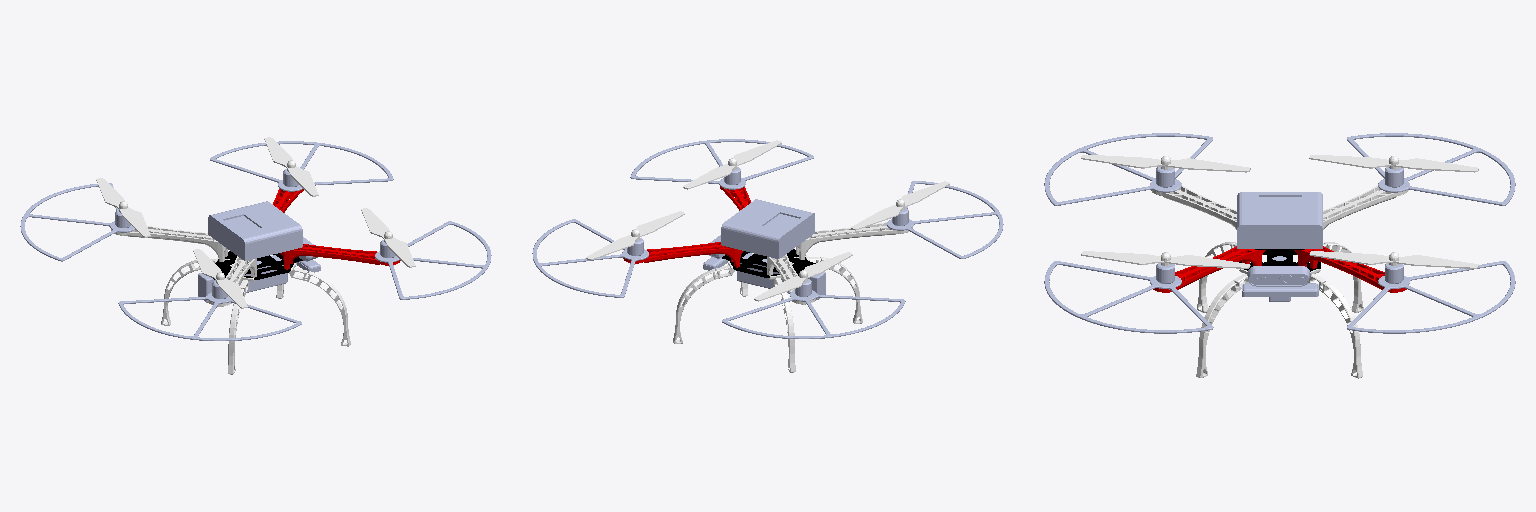
The robot description file, URDF, robot "f450":
<?xml version="1.0" encoding="utf-8"?>
<!-- This URDF was automatically created by SolidWorks to URDF Exporter! Originally created by [author] ([email redacted]) 
     Commit Version: 1.6.0-1-g15f4949  Build Version: 1.6.7594.29634
     For more information, please see http://wiki.ros.org/sw_urdf_exporter -->
<robot
  name="f450">

  <link name="base_link">
    <visual>
      <geometry>
        <mesh
          filename="package://f450/meshes/base_link.STL" />
      </geometry>
      <material
        name="">
        <color
          rgba="0 0 0 1" />
      </material>
    </visual>
  </link>

  <link name="leg_link">   
    <visual>
      <geometry>
        <mesh
          filename="package://f450/meshes/leg_link.STL" />
      </geometry>
      <material
        name="">
        <color
          rgba="1 1 1 1" />
      </material>
    </visual>
  </link>

  <joint name="leg_link_joint" type="fixed">
    <origin
      xyz="0 0 0.132"
      rpy="0 0 0" />
    <parent
      link="base_link" />
    <child
      link="leg_link" />
    <axis
      xyz="0 0 0" />
  </joint>

  <link
    name="battery_link">
    
    <visual>
      <origin
        xyz="0 0 0"
        rpy="0 0 0" />
      <geometry>
        <mesh
          filename="package://f450/meshes/battery_link.STL" />
      </geometry>
      <material
        name="">
        <color
          rgba="0.79216 0.81961 0.93333 1" />
      </material>
    </visual>
  
  </link>
  <joint
    name="battery_link_joint"
    type="fixed">
    <origin
      xyz="-0.025435 -0.00022216 0.09"
      rpy="0 0 0" />
    <parent
      link="base_link" />
    <child
      link="battery_link" />
    <axis
      xyz="0 0 0" />
  </joint>
  <link
    name="jetson_link">
    
    <visual>
      <origin
        xyz="0 0 0"
        rpy="0 0 0" />
      <geometry>
        <mesh
          filename="package://f450/meshes/jetson_link.STL" />
      </geometry>
      <material
        name="">
        <color
          rgba="0.79216 0.81961 0.93333 1" />
      </material>
    </visual>
  
  </link>
  <joint
    name="jetson_link_joint"
    type="fixed">
    <origin
      xyz="0.00570216508420152 0.000181695463436604 0.210999999999999"
      rpy="0 0 0" />
    <parent
      link="base_link" />
    <child
      link="jetson_link" />
    <axis
      xyz="0 0 0" />
  </joint>
  <link
    name="d435_link">

    <visual>
      <origin
        xyz="0 0 0"
        rpy="0 0 0" />
      <geometry>
        <mesh
          filename="package://f450/meshes/d435_link.STL" />
      </geometry>
      <material
        name="">
        <color
          rgba="0.79216 0.81961 0.93333 1" />
      </material>
    </visual>
    
  </link>
  <joint
    name="d435_link_joint"
    type="fixed">
    <origin
      xyz="0 0 0"
      rpy="0 0 0" />
    <parent
      link="base_link" />
    <child
      link="d435_link" />
    <axis
      xyz="0 0 0" />
  </joint>
  <link
    name="t265_link">
   
    <visual>
      <origin
        xyz="0 0 0"
        rpy="0 0 0" />
      <geometry>
        <mesh
          filename="package://f450/meshes/t265_link.STL" />
      </geometry>
      <material
        name="">
        <color
          rgba="0.79216 0.81961 0.93333 1" />
      </material>
    </visual>
   
  </link>
  <joint
    name="t265_link_joint"
    type="fixed">
    <origin
      xyz="0.0824052505915125 -0.00862818550105304 0.118529424882819"
      rpy="0 0 0" />
    <parent
      link="base_link" />
    <child
      link="t265_link" />
    <axis
      xyz="0 0 0" />
  </joint>
  <link
    name="front_arm_link">
   
    <visual>
      <origin
        xyz="0 0 0"
        rpy="0 0 0" />
      <geometry>
        <mesh
          filename="package://f450/meshes/front_arm_link.STL" />
      </geometry>
      <material
        name="">
        <color
          rgba="1 0 0 1" />
      </material>
    </visual>
  
  </link>
  <joint
    name="front_arm_link_joint"
    type="fixed">
    <origin
      xyz="0.0980914901926783 0.0980914949967722 0.170999999999999"
      rpy="0 0 0" />
    <parent
      link="base_link" />
    <child
      link="front_arm_link" />
    <axis
      xyz="0 0 0" />
  </joint>
  <link
    name="back_arm_link">
   
    <visual>
      <origin
        xyz="0 0 0"
        rpy="0 0 0" />
      <geometry>
        <mesh
          filename="package://f450/meshes/back_arm_link.STL" />
      </geometry>
      <material
        name="">
        <color
          rgba="1 1 1 1" />
      </material>
    </visual>
  
  </link>
  <joint
    name="back_arm_link_joint"
    type="fixed">
    <origin
      xyz="-0.098091 -0.098091 0.171"
      rpy="0 0 0" />
    <parent
      link="base_link" />
    <child
      link="back_arm_link" />
    <axis
      xyz="0 0 0" />
  </joint>
  <link
    name="prop_guard_link">
    
    <visual>
      <origin
        xyz="0 0 0"
        rpy="0 0 0" />
      <geometry>
        <mesh
          filename="package://f450/meshes/prop_guard_link.STL" />
      </geometry>
      <material
        name="">
        <color
          rgba="0.79216 0.81961 0.93333 1" />
      </material>
    </visual>
    
  </link>
  <joint
    name="prop_guard_link_joint"
    type="fixed">
    <origin
      xyz="0 3.6966E-05 0.171"
      rpy="0 0 0" />
    <parent
      link="base_link" />
    <child
      link="prop_guard_link" />
    <axis
      xyz="0 0 0" />
  </joint>
  <link
    name="motor_link">
   
    <visual>
      <origin
        xyz="0 0 0"
        rpy="0 0 0" />
      <geometry>
        <mesh
          filename="package://f450/meshes/motor_link.STL" />
      </geometry>
      <material
        name="">
        <color
          rgba="0.79216 0.81961 0.93333 1" />
      </material>
    </visual>
  
  </link>
  <joint
    name="motor_link_joint"
    type="fixed">
    <origin
      xyz="-0.00077732 0.0001817 0.173"
      rpy="0 0 0" />
    <parent
      link="base_link" />
    <child
      link="motor_link" />
    <axis
      xyz="0 0 1" />
  </joint>
  <link
    name="rotor1">

    <visual>
      <origin
        xyz="0 0 0"
        rpy="0 0 0" />
      <geometry>
        <mesh
          filename="package://f450/meshes/rotor1.STL" />
      </geometry>
      <material
        name="">
        <color
          rgba="1 1 1 1" />
      </material>
    </visual>
  
  </link>
  <joint
    name="rotor1_joint"
    type="continuous">
    <origin
      xyz="0.15988 0.15988 0.21"
      rpy="0 0 0" />
    <parent
      link="base_link" />
    <child
      link="rotor1" />
    <axis
      xyz="0 0 1" />
  </joint>
  <link
    name="rotor2">
  
    <visual>
      <origin
        xyz="0 0 0"
        rpy="0 0 0" />
      <geometry>
        <mesh
          filename="package://f450/meshes/rotor1.STL" />
      </geometry>
      <material
        name="">
        <color
          rgba="1 1 1 1" />
      </material>
    </visual>
    
  </link>
  <joint
    name="rotor2_joint"
    type="continuous">
    <origin
      xyz="-0.15988 -0.15988 0.21"
      rpy="0 0 0" />
    <parent
      link="base_link" />
    <child
      link="rotor2" />
    <axis
      xyz="0 0 1" />
  </joint>
  <link
    name="rotor3">
   
    <visual>
      <origin
        xyz="0 0 0"
        rpy="0 0 0" />
      <geometry>
        <mesh
          filename="package://f450/meshes/rotor1.STL" />
      </geometry>
      <material
        name="">
        <color
          rgba="1 1 1 1" />
      </material>
    </visual>
    
  </link>
  <joint
    name="rotor3_joint"
    type="continuous">
    <origin
      xyz="0.15988 -0.15988 0.21"
      rpy="0 0 0" />
    <parent
      link="base_link" />
    <child
      link="rotor3" />
    <axis
      xyz="0 0 1" />
  </joint>
  <link
    name="rotor4">
  
    <visual>
      <origin
        xyz="0 0 0"
        rpy="0 0 0" />
      <geometry>
        <mesh
          filename="package://f450/meshes/rotor1.STL" />
      </geometry>
      <material
        name="">
        <color
          rgba="1 1 1 1" />
      </material>
    </visual>
 
  </link>
  <joint
    name="rotor4_joint"
    type="continuous">
    <origin
      xyz="-0.15988 0.15988 0.21"
      rpy="0 0 0" />
    <parent
      link="base_link" />
    <child
      link="rotor4" />
    <axis
      xyz="0 0 1" />
  </joint>
</robot>

--- Facts derived from the render (not from the file) ---
Views: 3 orthographic renders of the robot side by side, from view 1: azimuth 30°, elevation 25°; view 2: azimuth 150°, elevation 25°; view 3: azimuth 270°, elevation 25°.
Robot: f450 — 14 links, 13 joints (4 continuous, 9 fixed); root link base_link; default pose: all joints at 0.
Links seen in each view (by area): view 1: prop_guard_link, jetson_link, leg_link, back_arm_link, front_arm_link, rotor1, rotor3, rotor4, rotor2, base_link, battery_link, motor_link; view 2: prop_guard_link, jetson_link, leg_link, back_arm_link, front_arm_link, rotor1, rotor2, rotor3, rotor4, base_link, motor_link, battery_link; view 3: prop_guard_link, jetson_link, leg_link, front_arm_link, back_arm_link, rotor2, rotor1, rotor3, rotor4, motor_link, d435_link, t265_link (+1 smaller).
Link boxes in pixels (x1,y1,x2,y2): prop_guard_link: [20, 141, 491, 340]; jetson_link: [208, 201, 302, 260]; leg_link: [161, 258, 350, 374]; back_arm_link: [111, 226, 256, 306]; front_arm_link: [273, 189, 400, 269]; rotor1: [264, 137, 318, 196]; rotor3: [361, 208, 415, 267]; rotor4: [96, 178, 150, 237]; rotor2: [193, 249, 247, 308]; base_link: [213, 251, 302, 279]; battery_link: [198, 255, 287, 302]; motor_link: [115, 169, 395, 298]; prop_guard_link: [532, 139, 1003, 338]; jetson_link: [721, 199, 814, 258]; leg_link: [673, 255, 862, 372]; back_arm_link: [767, 222, 912, 304]; front_arm_link: [623, 186, 750, 267]; rotor1: [586, 211, 684, 260]; rotor2: [851, 181, 949, 230]; rotor3: [683, 140, 781, 189]; rotor4: [754, 252, 852, 301]; base_link: [722, 249, 815, 277]; motor_link: [627, 167, 908, 296]; battery_link: [737, 253, 825, 299]; prop_guard_link: [1044, 133, 1515, 333]; jetson_link: [1237, 192, 1322, 248]; leg_link: [1196, 242, 1363, 378]; front_arm_link: [1153, 246, 1406, 292]; back_arm_link: [1151, 186, 1408, 229]; rotor2: [1081, 155, 1250, 172]; rotor1: [1309, 251, 1478, 268]; rotor3: [1081, 251, 1250, 268]; rotor4: [1309, 155, 1478, 172]; motor_link: [1156, 167, 1403, 283]; d435_link: [1247, 266, 1310, 286]; t265_link: [1242, 283, 1318, 296].
Size in the robot's own frame: 0.6596 by 0.6596 by 0.2155 metres.
Meshes: 11 distinct files referenced, 14 mesh visuals loaded (11 binary STL).